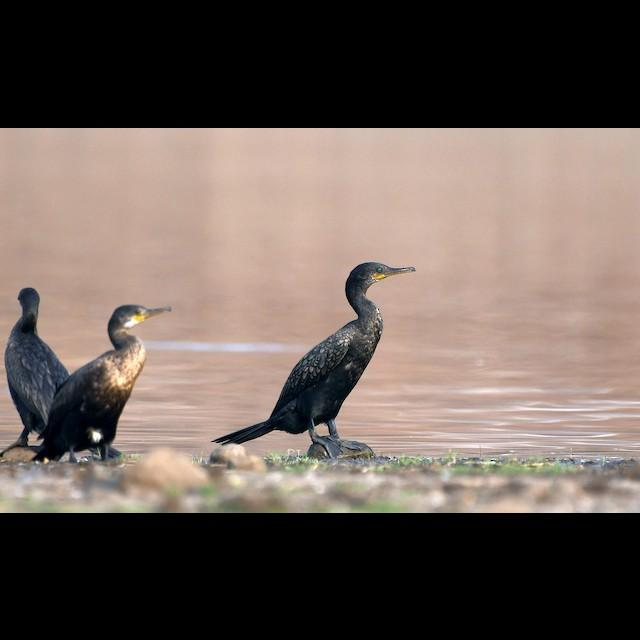cormorant: (213, 251, 425, 463), (46, 300, 182, 470)
